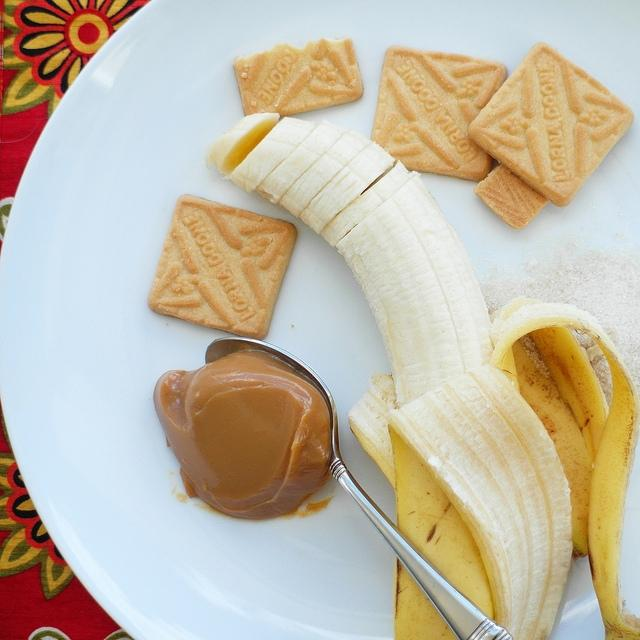banana: (210, 112, 636, 640)
